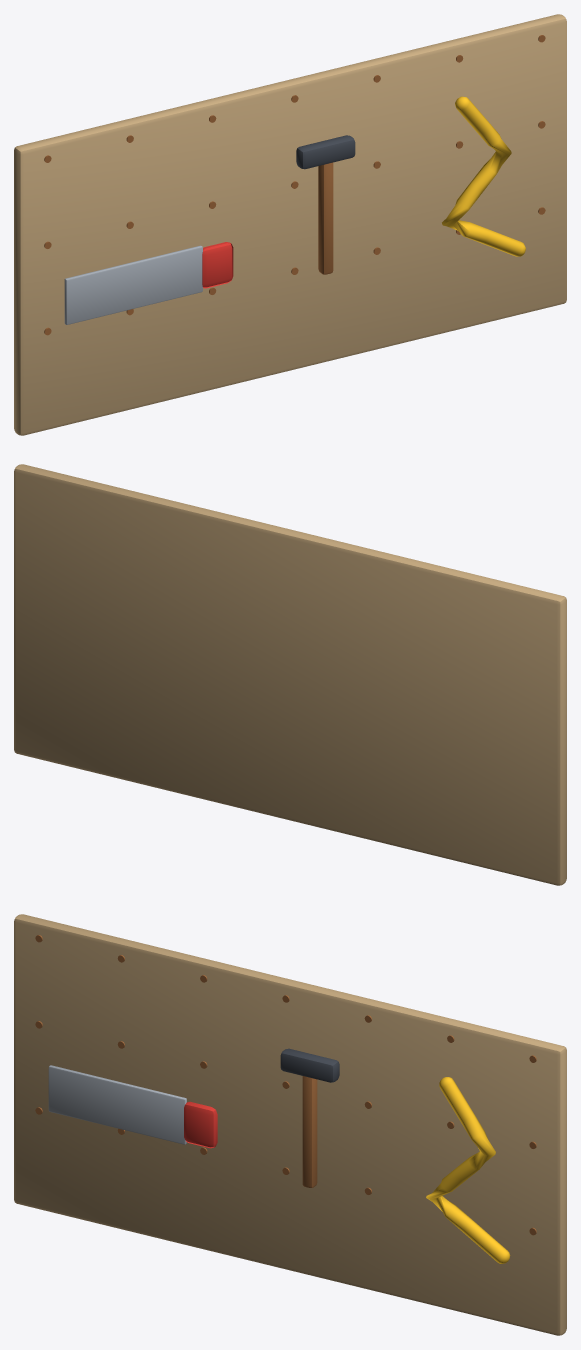
Rendered from Pegboard.fbx.
3 views of the same model, one above another, from view 1: azimuth 30°, elevation 25°; view 2: azimuth 150°, elevation 25°; view 3: azimuth 330°, elevation 25° (orthographic).
Parts seen in each view (by area): view 1: Prop_Pegboard; view 2: Prop_Pegboard; view 3: Prop_Pegboard.
Part boxes in pixels (box(x1,y1,x2,y2)): Prop_Pegboard: box(14, 14, 566, 435); Prop_Pegboard: box(14, 464, 566, 885); Prop_Pegboard: box(14, 914, 566, 1335).
Bounding box in the file's own units: 2 × 1 × 0.1.
